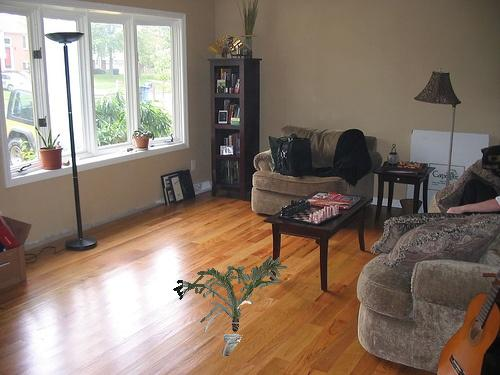tampered: (174, 256, 287, 356)
